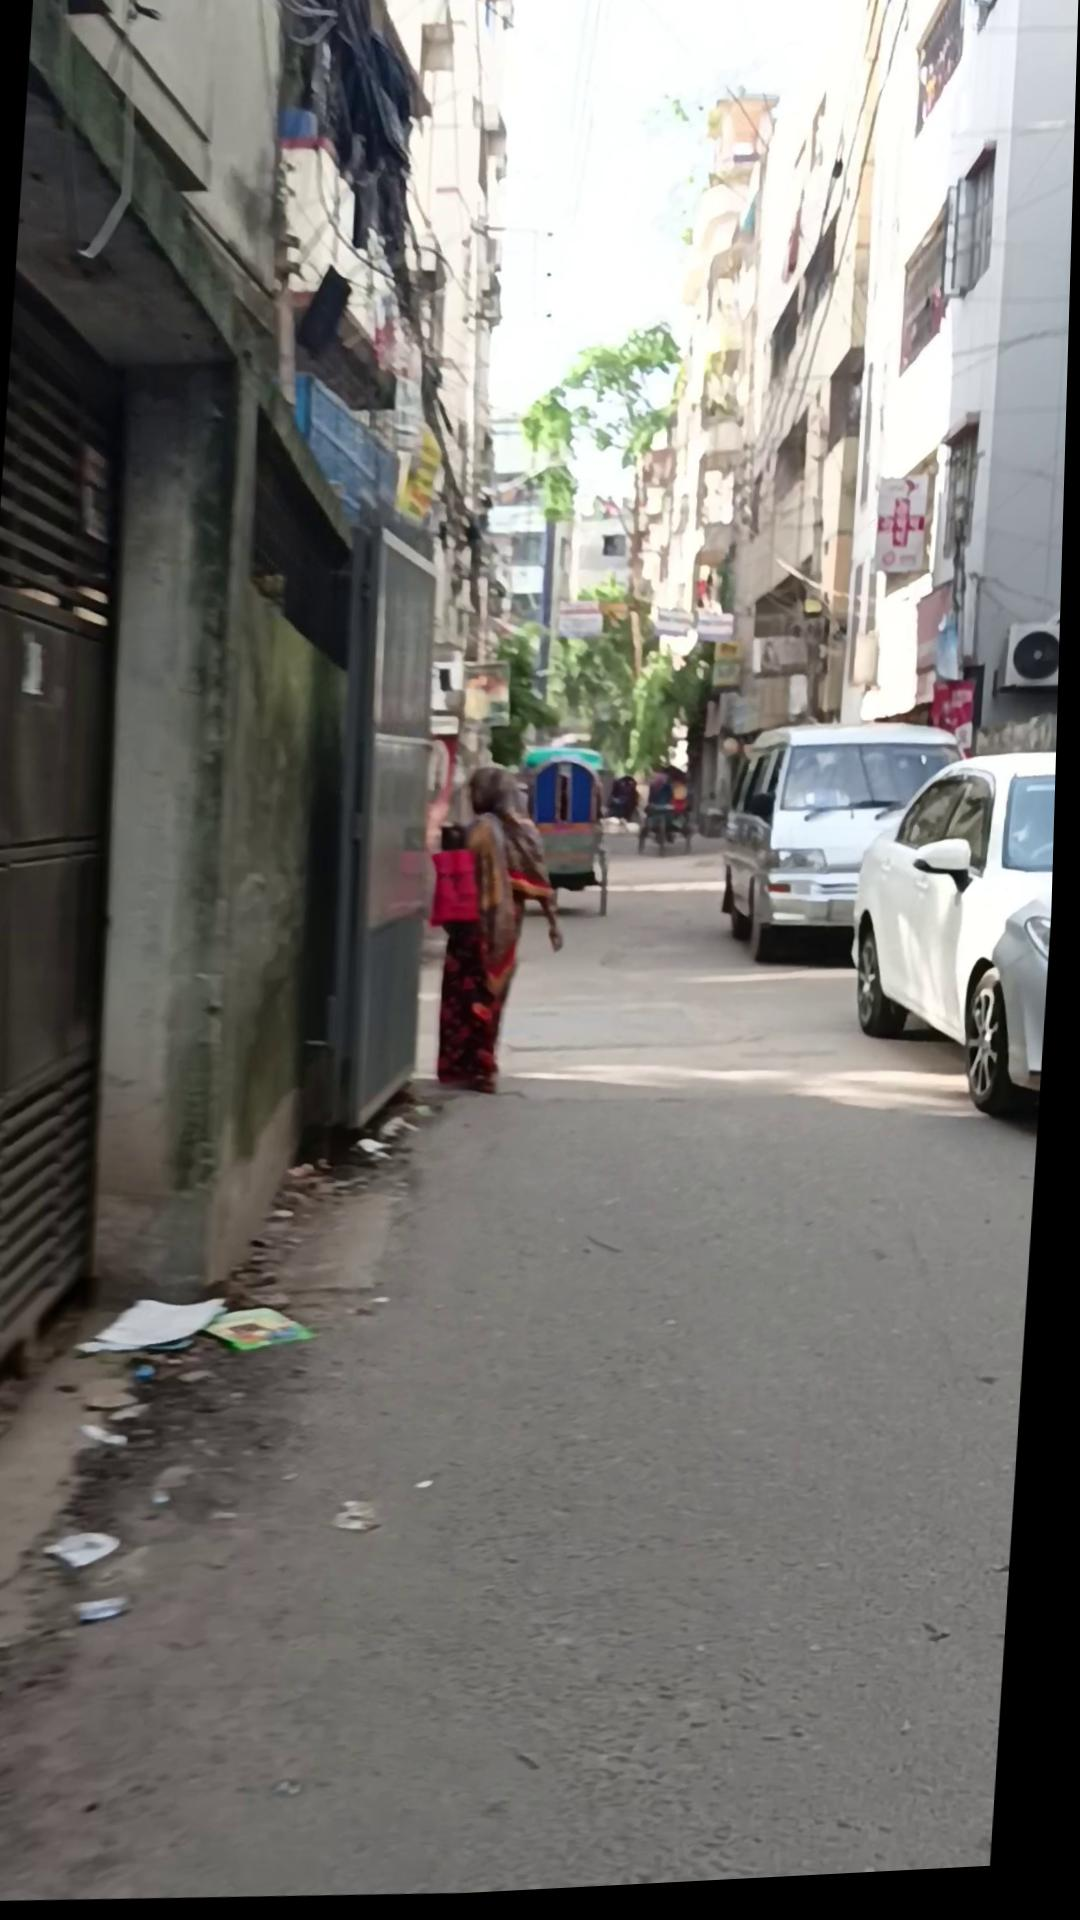Car: (844, 754, 1062, 1138), (720, 721, 972, 981)
Garbage: (514, 746, 621, 926)
Muddy road: (422, 764, 579, 1106)
